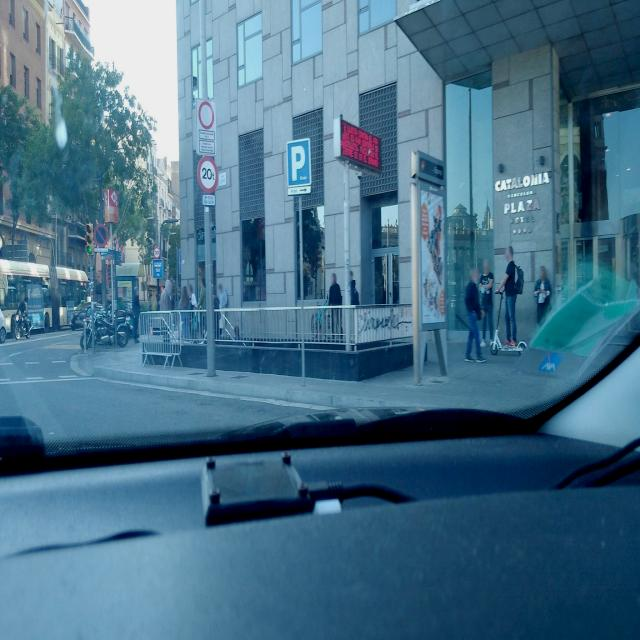bike: (85, 306, 128, 348), (15, 315, 33, 339)
car: (72, 299, 84, 330)
